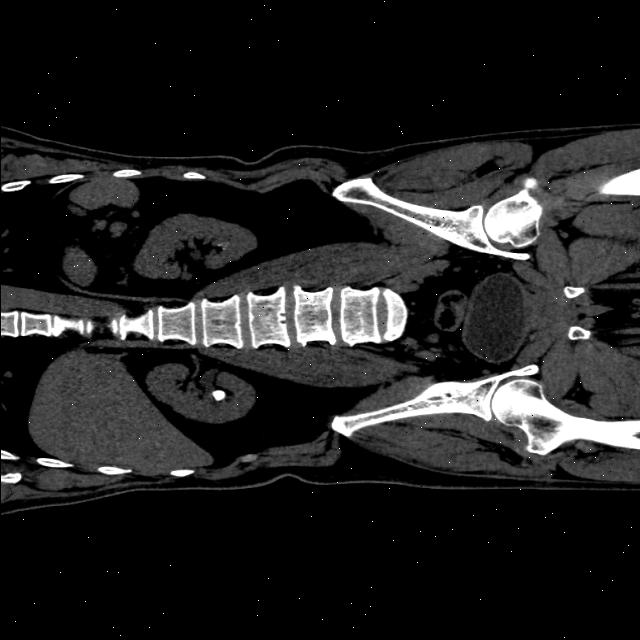kidneystone: (212, 389, 226, 400)
